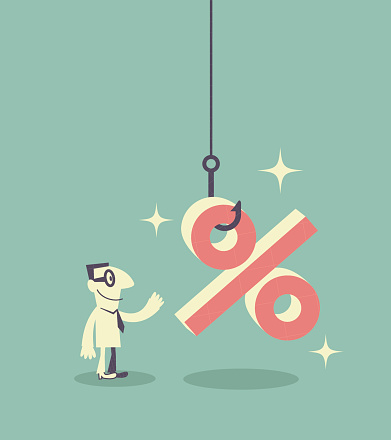em pe: (81, 268, 134, 381)
